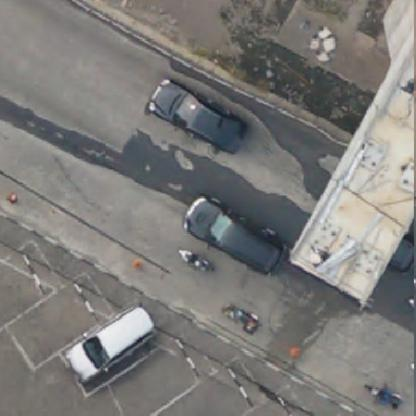Car: (182, 195, 287, 280), (150, 78, 246, 154), (67, 308, 156, 372)
Motorcycle: (211, 299, 264, 338), (178, 248, 218, 284), (364, 379, 405, 412)
